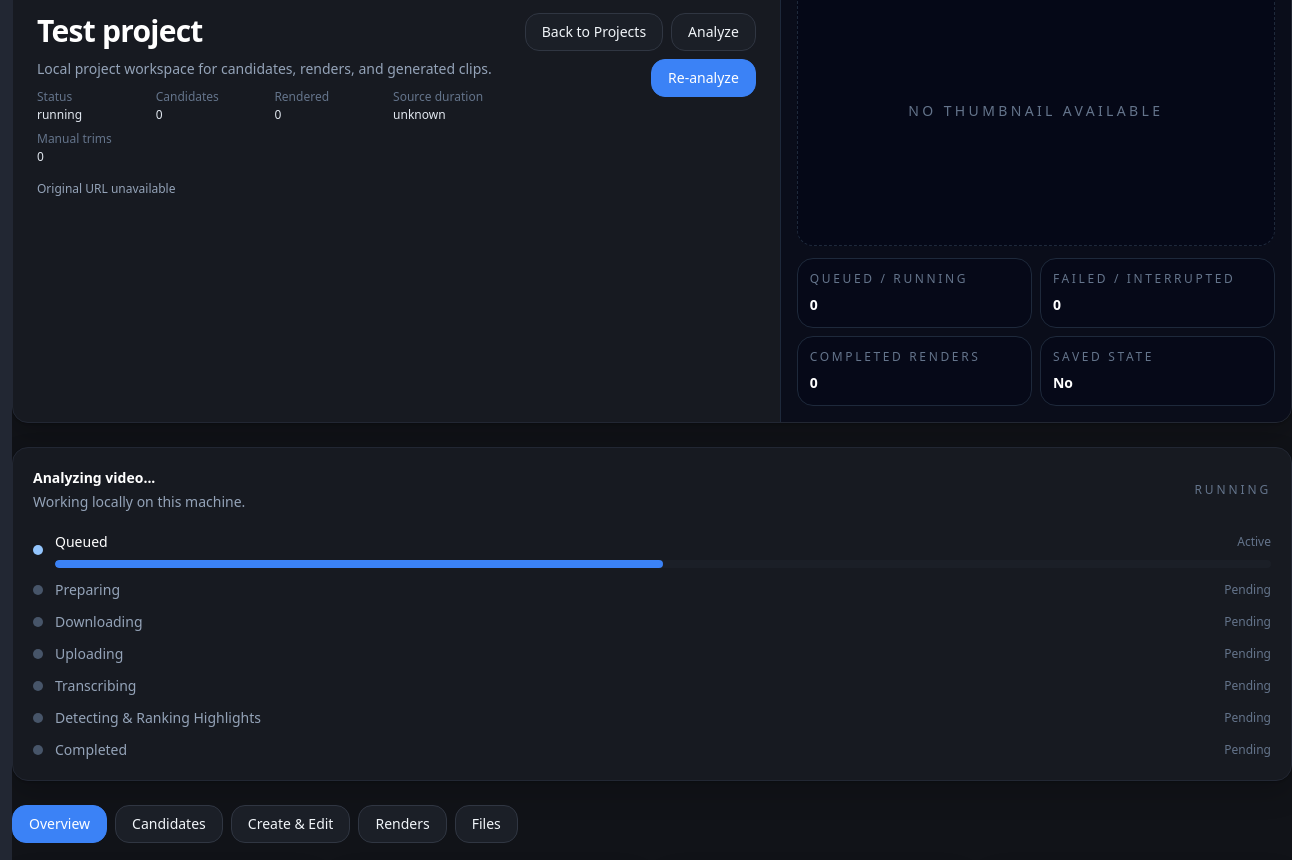
Test: ProjectWorkspacePage tools › explains unavailable analysis prerequisites and disables batch and compilation actions
Expected: the heading "Test project" is shown, [37,10,203,51]
Click the button "Create & Edit": {"x": 291, "y": 824} [231,805,350,843]
(page scrolled)
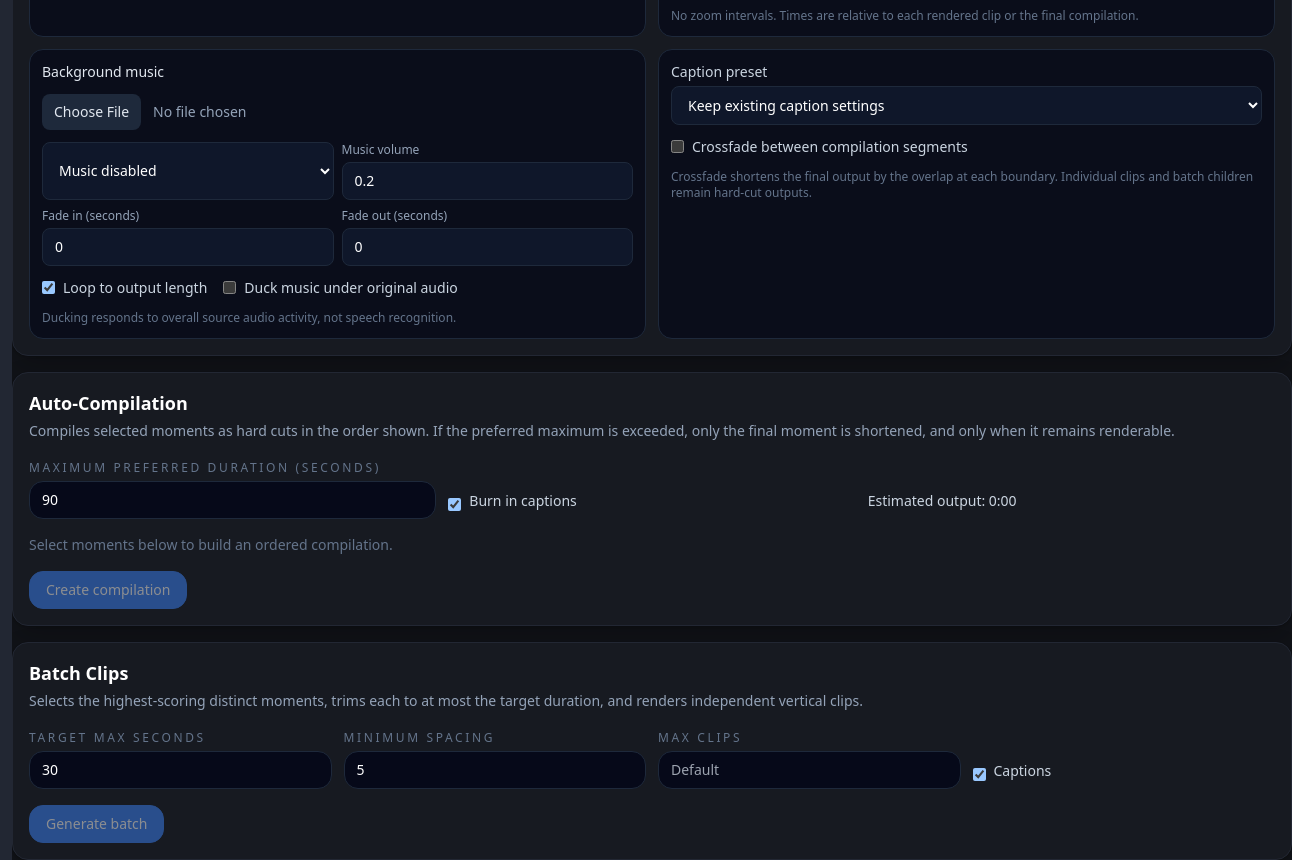
Now the heading "Batch Clips" is shown, box [29,661,128,685]
Now the button "Generate batch" is disabled, box [29,805,164,843]
Now the button "Create compilation" is disabled, box [29,571,188,609]
